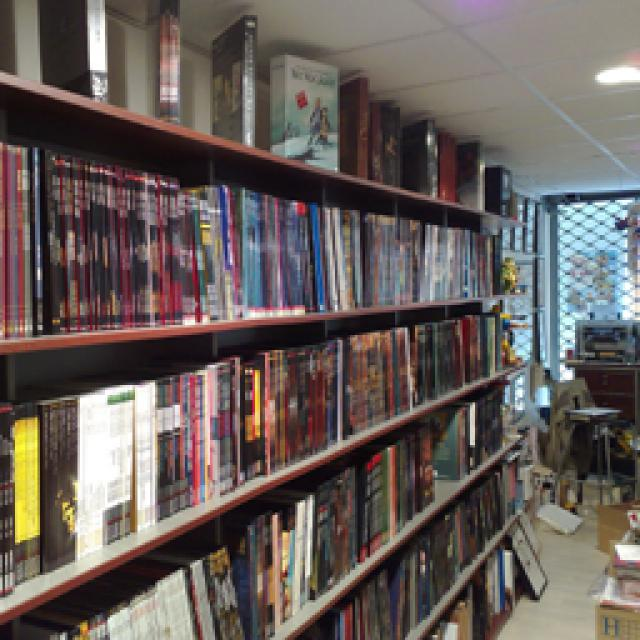2001: (548, 188, 635, 408)
book case: (268, 52, 338, 170), (208, 12, 255, 145), (400, 115, 438, 192), (155, 0, 178, 122)
bookcase crop: (0, 66, 540, 638)
books crop: (0, 310, 502, 594), (2, 138, 490, 338), (192, 420, 432, 635), (312, 455, 515, 630), (8, 542, 240, 635), (428, 380, 502, 480), (338, 75, 400, 182)
box occluded: (590, 528, 635, 635)
box of tea: (595, 498, 635, 552)
ceiling beam: (86, 0, 635, 192)
floor -X: (350, 458, 635, 638)
lamp occluded: (592, 62, 635, 85)
wall clock: (552, 185, 635, 458)
